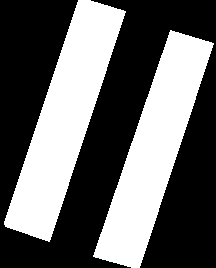parkingspot: (4, 0, 125, 241), (93, 30, 213, 267)
